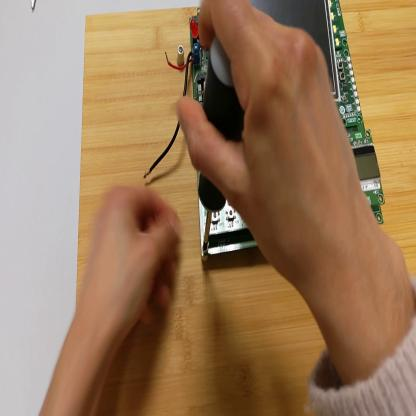hand: (180, 3, 366, 289), (80, 182, 181, 345)
low voltage board: (144, 2, 386, 257)
screwdriver-: (198, 42, 246, 252)
working area: (76, 2, 416, 416)
